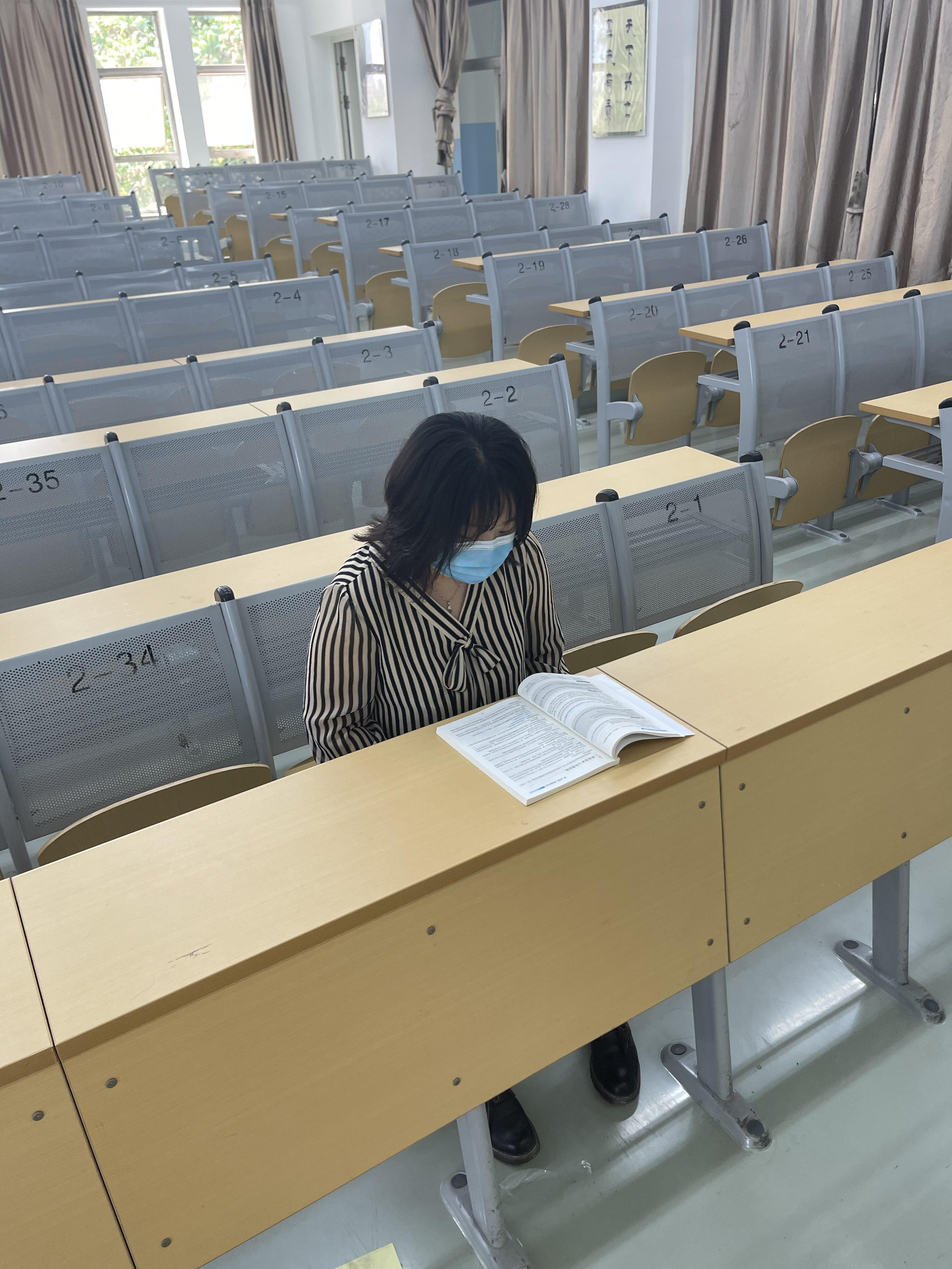study: (310, 410, 618, 799)
